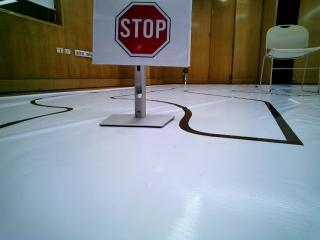stop: (105, 0, 175, 58)
